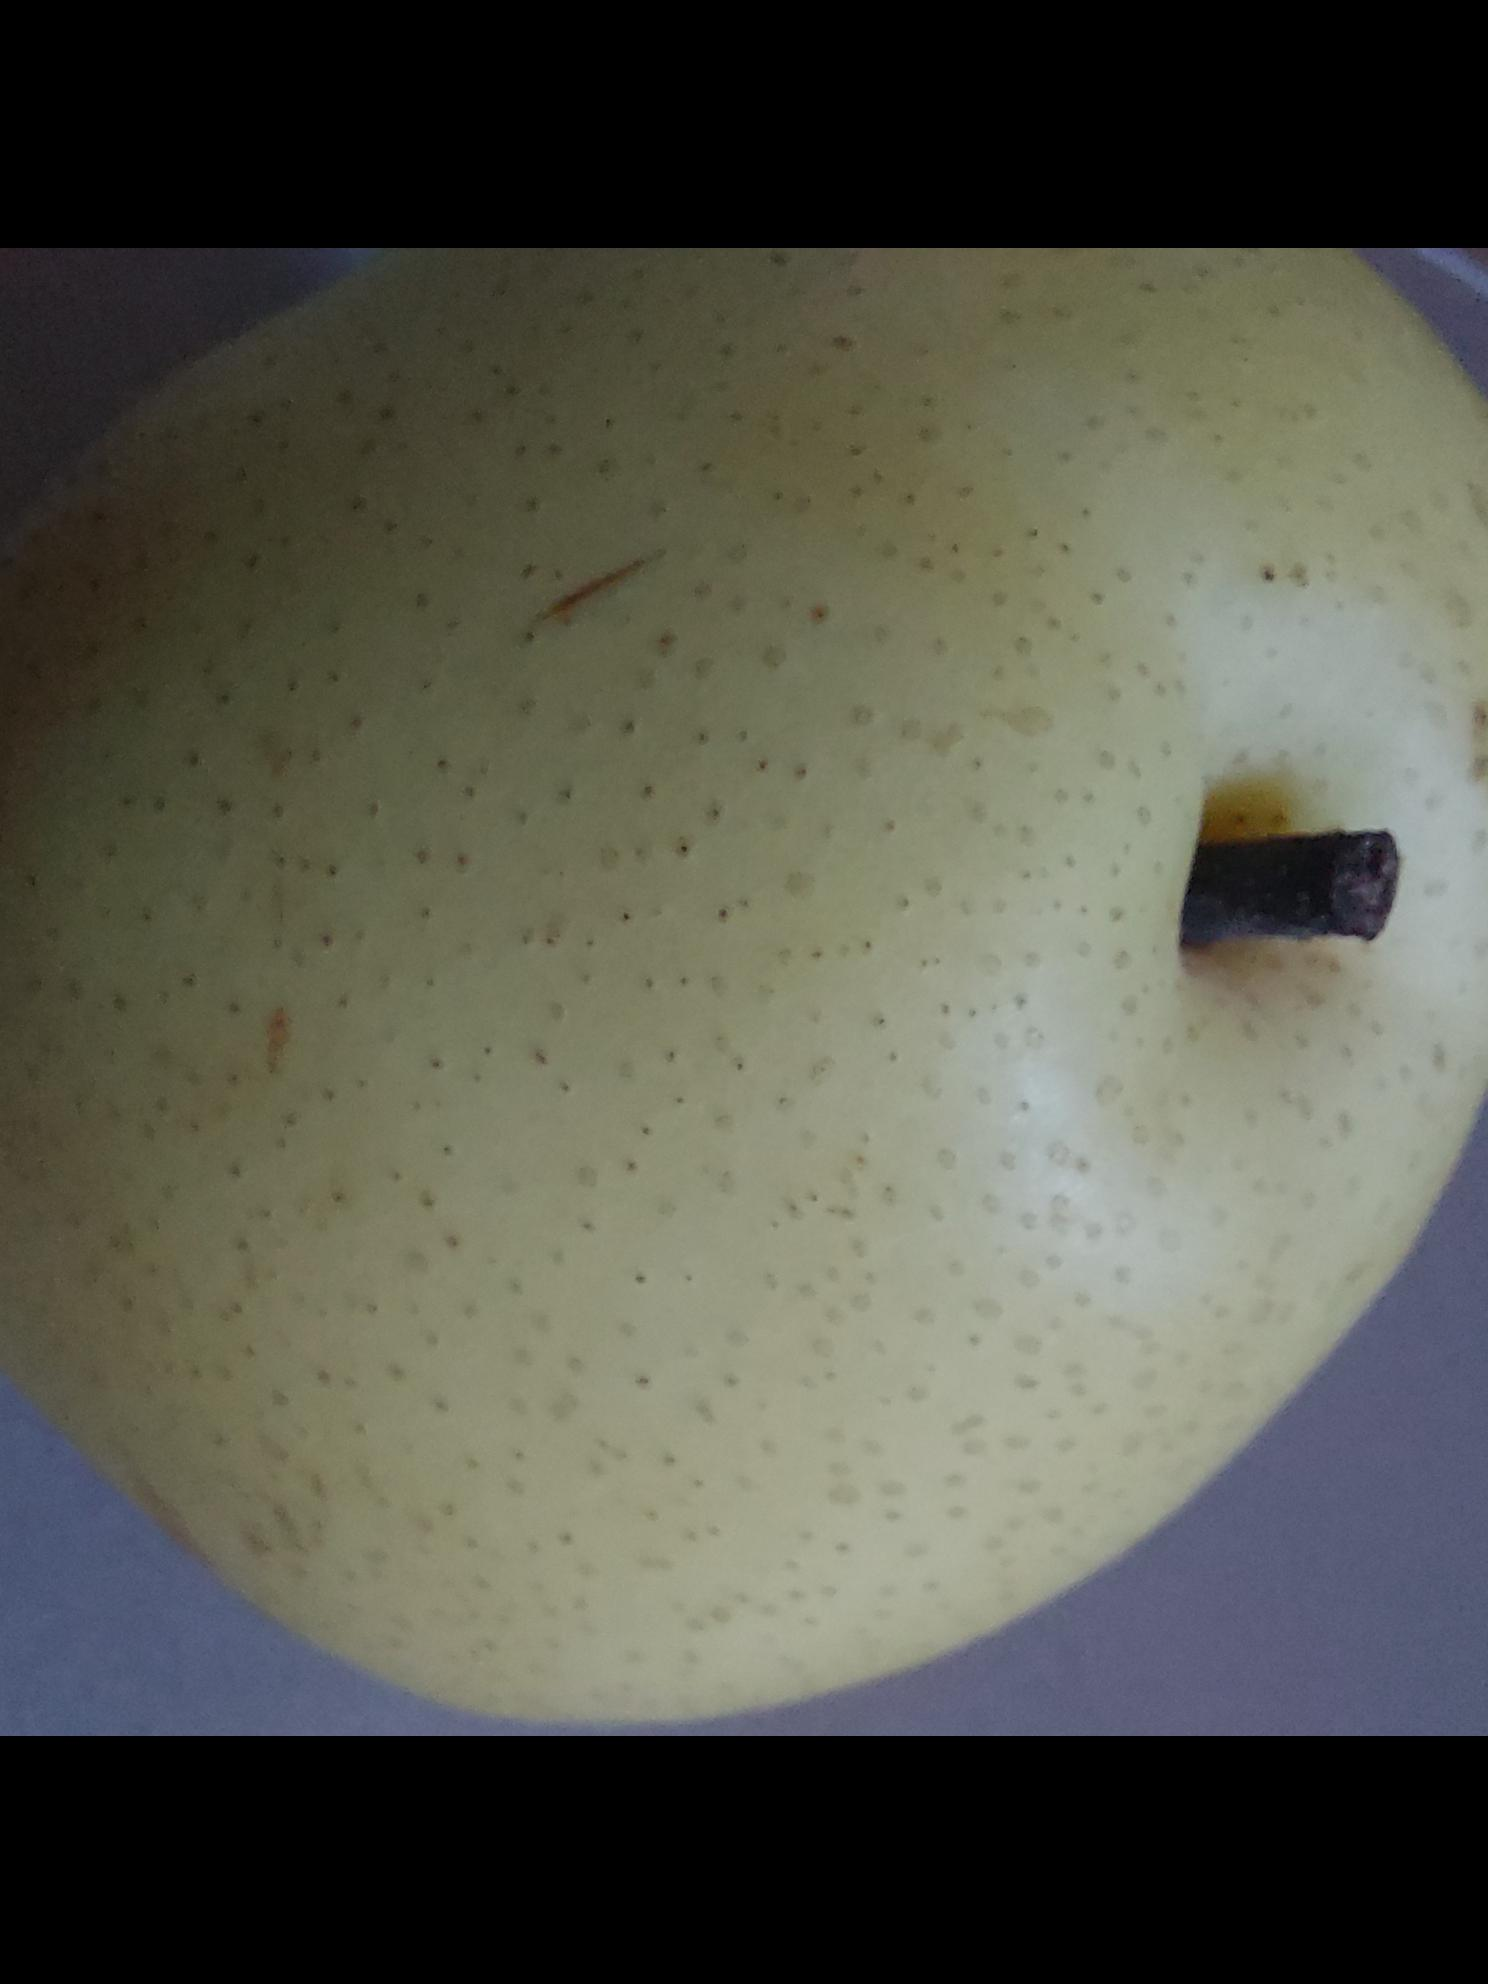Good Pear: (0, 255, 1488, 1726)
